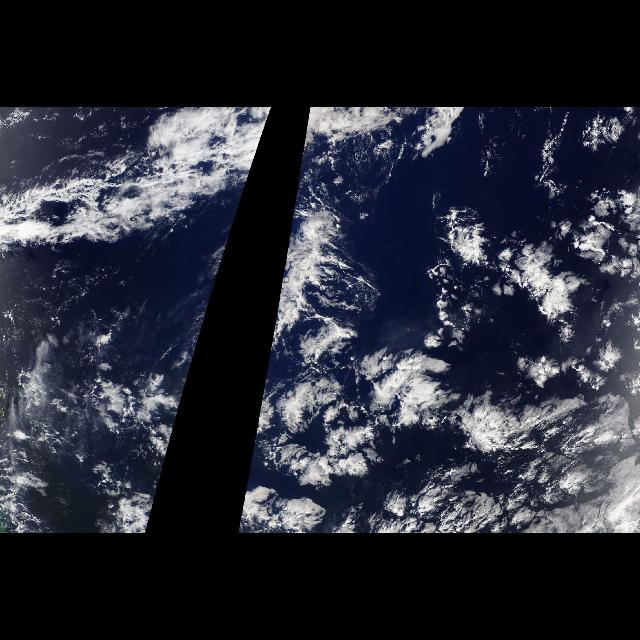Fish: (2, 112, 272, 346), (270, 112, 406, 346)
Flower: (237, 206, 637, 534), (187, 288, 215, 384)
